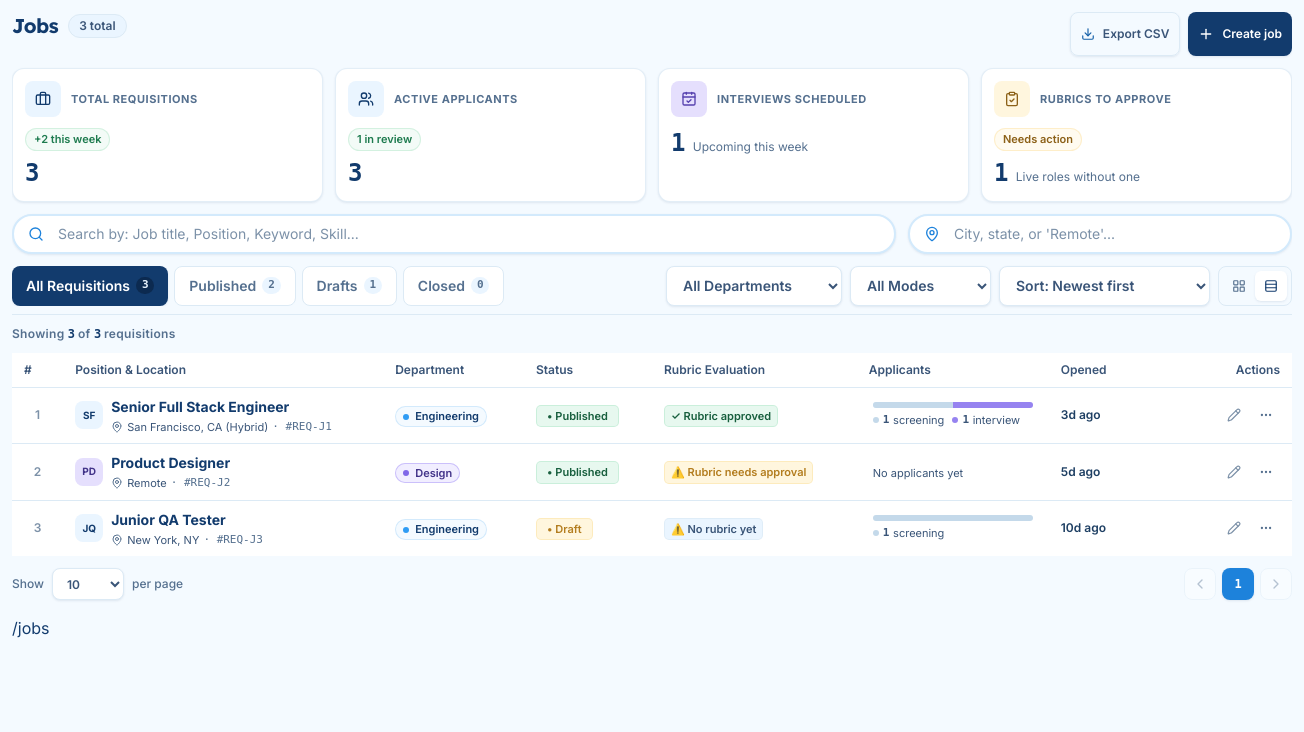
Test: JobList Recruiter UX & Navigation › clears all active filters when Reset all is clicked
The width and height of the screenshot is (1304, 732).
Expected: the button "Senior Full Stack Engineer" is shown, [111, 396, 332, 416]
In the search field with placeholder "Search by: Job title, Position, Keyword, Skill...": x=454, y=234 [12, 214, 896, 254], type "Designer"
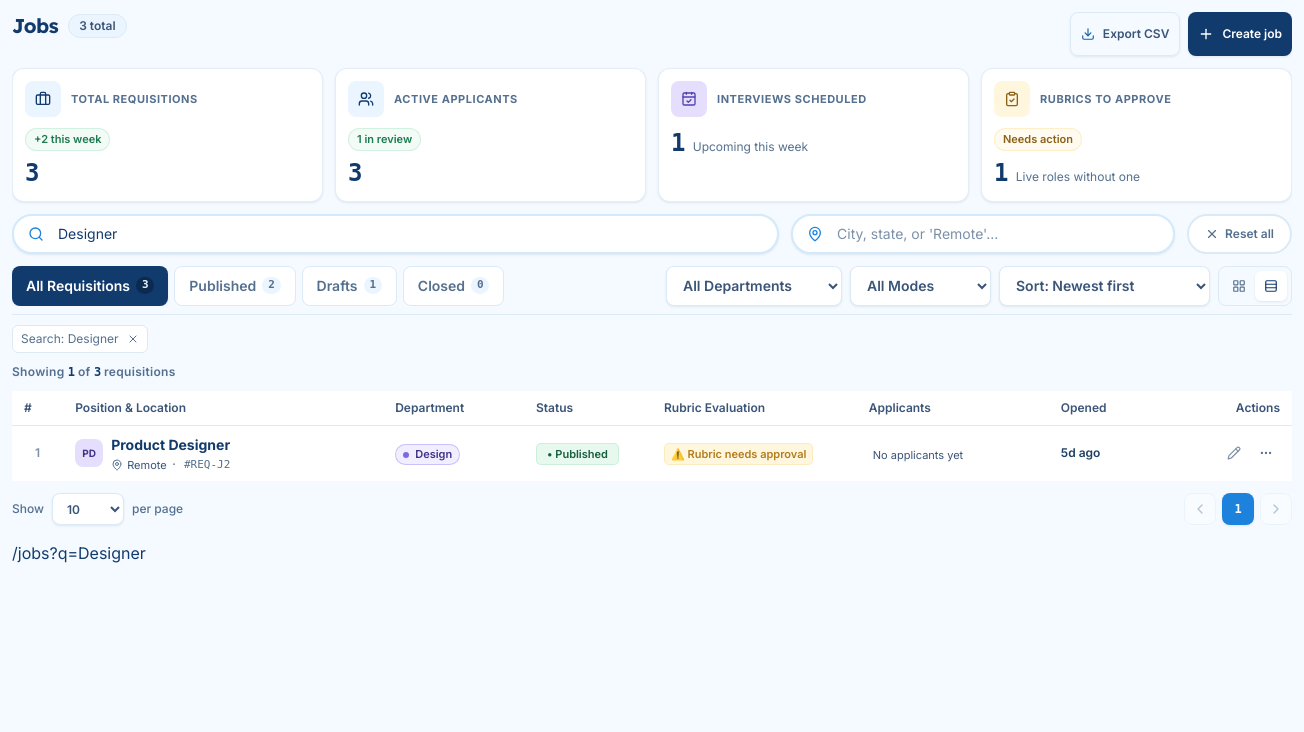
Click the button "Reset all": x=1240, y=234 [1187, 214, 1292, 254]
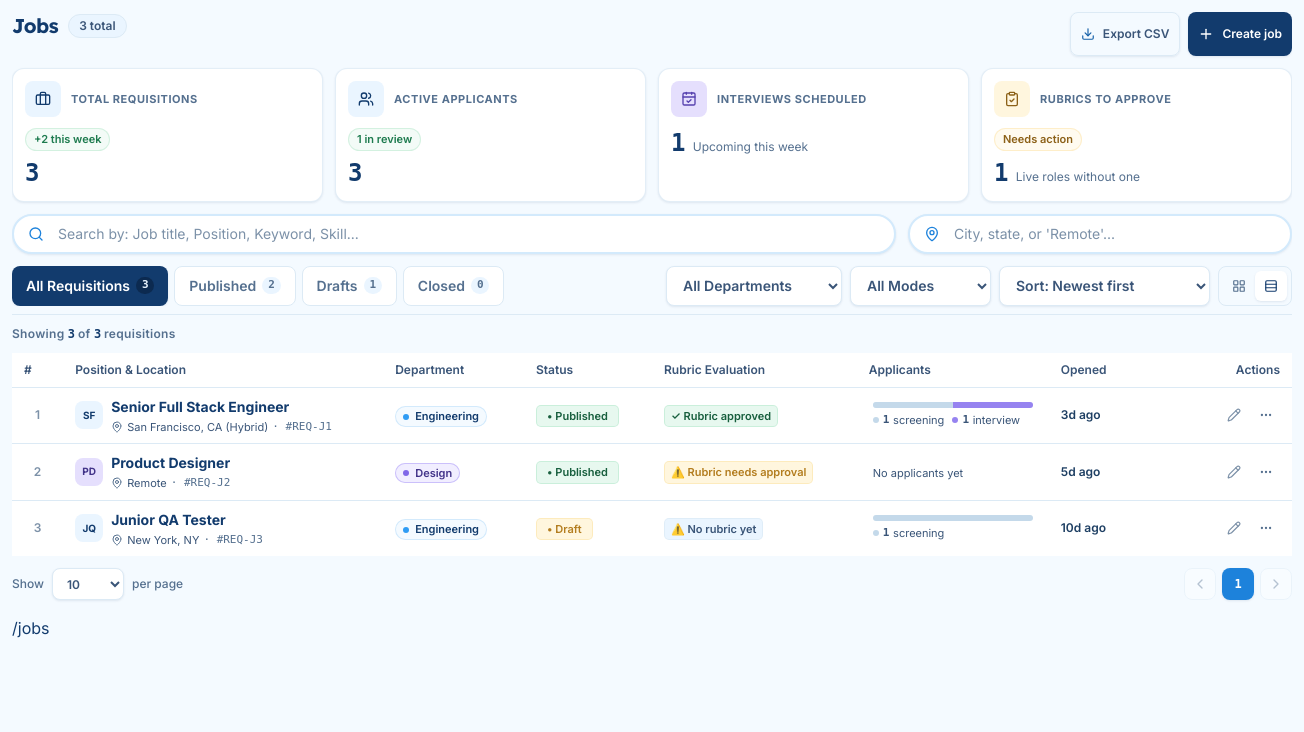
Expected: the button "Product Designer" is shown, [111, 452, 230, 473]
Expected: the button "Senior Full Stack Engineer" is shown, [111, 396, 332, 416]
